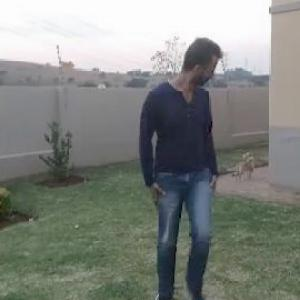follow: (136, 32, 230, 299)
